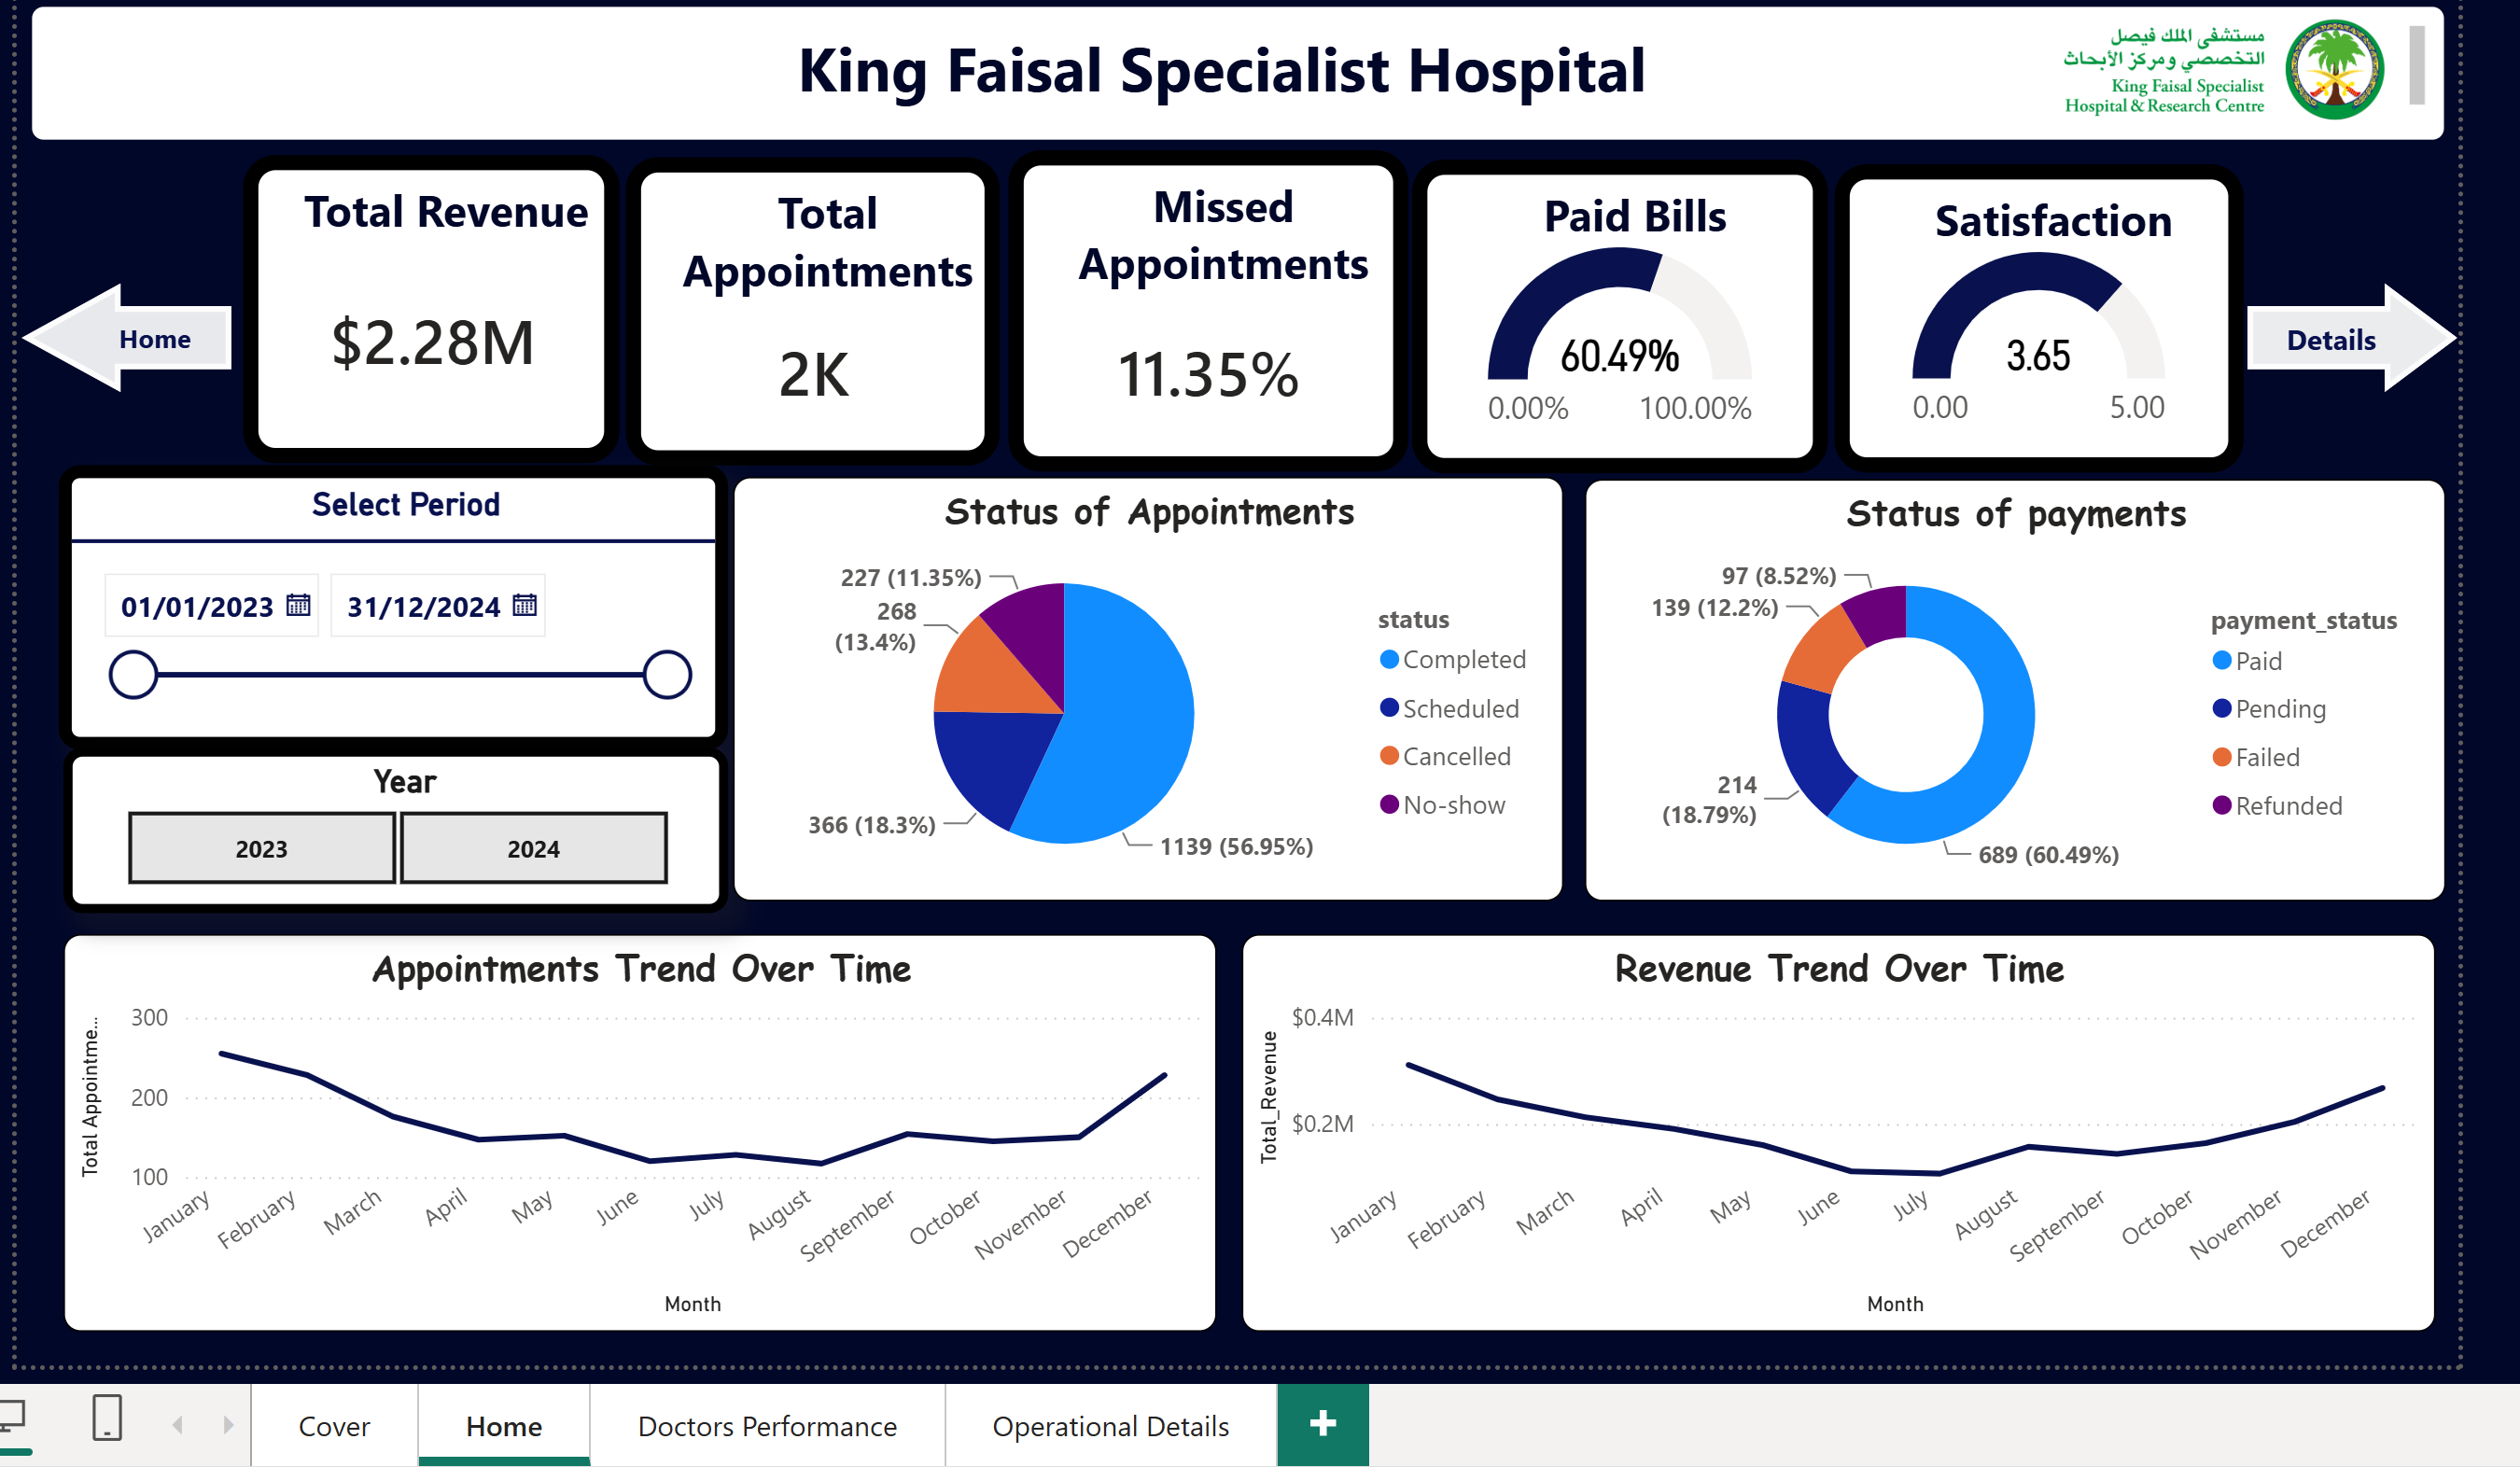

The dashboard page shown, as its layout file describes it:
{"tool":"powerbi","page":{"name":"Home","canvas":[1280,720],"ordinal":1},"visuals":[{"type":"textbox","box":[0,0,1280,85.7],"z":0},{"type":"cardVisual","title":"Total Revenue","fields":{"Data":["billing.Total_Revenue"]},"box":[118.6,85.7,197.1,161.4],"z":1000},{"type":"cardVisual","title":"Total Appointments","fields":{"Data":["appointments.Total Appointments"]},"box":[319.3,86.3,195.9,161.7],"z":2000},{"type":"cardVisual","title":"Missed Appointments ","fields":{"Data":["appointments.No-show-rate"]},"box":[519.3,83.6,209.6,168.5],"z":3000},{"type":"lineChart","title":"Appointments Trend Over Time","fields":{"Y":["appointments.Total Appointments"],"Category":["appointments.appointment_date.Variation.Date Hierarchy.Month"]},"box":[24.3,494.3,604.3,208.6],"z":4000},{"type":"slicer","title":"Select Period","fields":{"Values":["appointments.appointment_date"]},"box":[22,248.2,351,149.2],"z":5000},{"type":"lineChart","title":"Revenue Trend Over Time","fields":{"Category":["appointments.appointment_date.Variation.Date Hierarchy.Month"],"Y":["billing.Total_Revenue"]},"box":[641.4,494.3,625.7,208.6],"z":6000},{"type":"gauge","title":"Satisfaction","fields":{"Y":["appointments.Avg Patient Satisfaction"]},"box":[952.9,90,214.3,161.4],"z":7000},{"type":"gauge","title":"Paid Bills","fields":{"Y":["billing.Paid Bills"]},"box":[731.7,87.7,217.9,164.4],"z":8000},{"type":"slicer","title":"Year","fields":{"Values":["appointments.appointment_date.Variation.Date Hierarchy.Year"]},"box":[24.5,396.2,348.5,86.8],"z":9000},{"type":"actionButton","title":"Next","box":[1168.6,152.9,110,57.1],"z":10000},{"type":"image","box":[1046.2,10,220,63.8],"z":11000},{"type":"actionButton","box":[2.9,152.9,110,57.1],"z":12000},{"type":"donutChart","title":"Status of payments","fields":{"Category":["billing.payment_status"],"Y":["billing.count of payments"]},"box":[821.7,255.6,451.2,221.3],"z":13000},{"type":"pieChart","title":"Status of Appointments","fields":{"Y":["appointments.Total Appointments"],"Category":["appointments.status"]},"box":[375.4,254.3,435.3,222.6],"z":14000}]}

Visuals, with their boxes on the page's 1280x720 design canvas (x1, y1, x2, y2). These are canvas units, not pixel positions in the 2520x1467 screenshot, which may show the page scaled, cropped or inside an application window:
textbox: rect(0, 0, 1280, 86)
"Total Revenue" cardVisual: rect(119, 86, 316, 247)
"Total Appointments" cardVisual: rect(319, 86, 515, 248)
"Missed Appointments " cardVisual: rect(519, 84, 729, 252)
"Appointments Trend Over Time" lineChart: rect(24, 494, 629, 703)
"Select Period" slicer: rect(22, 248, 373, 397)
"Revenue Trend Over Time" lineChart: rect(641, 494, 1267, 703)
"Satisfaction" gauge: rect(953, 90, 1167, 251)
"Paid Bills" gauge: rect(732, 88, 950, 252)
"Year" slicer: rect(24, 396, 373, 483)
"Next" actionButton: rect(1169, 153, 1279, 210)
image: rect(1046, 10, 1266, 74)
actionButton: rect(3, 153, 113, 210)
"Status of payments" donutChart: rect(822, 256, 1273, 477)
"Status of Appointments" pieChart: rect(375, 254, 811, 477)
